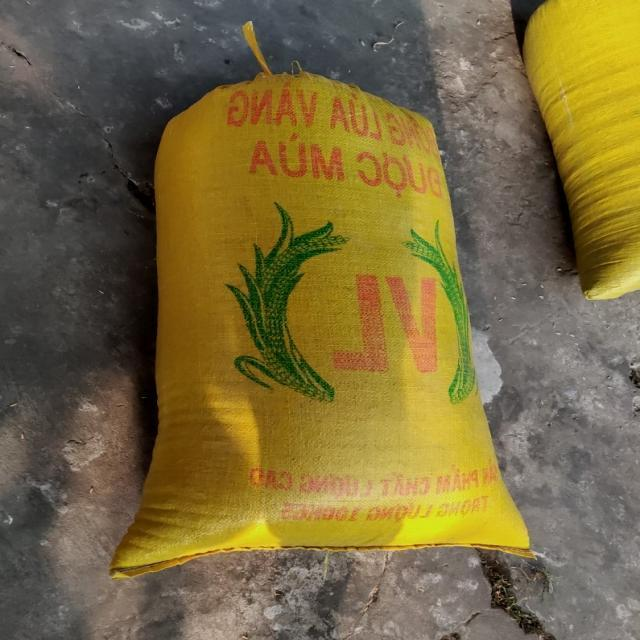gunny_bag: (110, 71, 531, 579)
